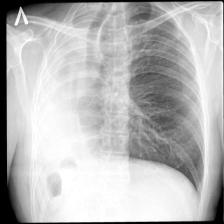tuberculosis: (24, 3, 210, 207)
